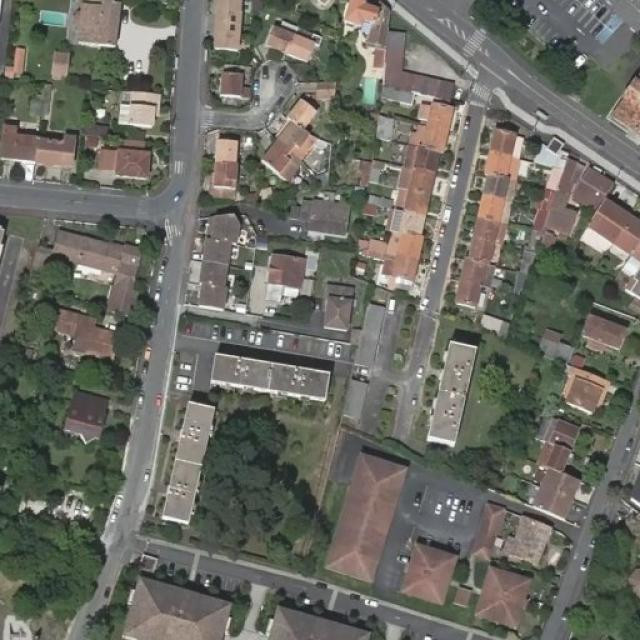immeuble: (34, 232, 155, 318), (327, 459, 409, 572), (114, 569, 223, 640), (155, 400, 211, 520), (208, 352, 338, 397), (428, 344, 484, 446), (536, 169, 609, 237), (267, 602, 365, 640), (50, 310, 120, 362), (397, 543, 456, 601), (483, 565, 541, 622), (593, 193, 640, 257), (263, 128, 316, 176), (563, 367, 612, 413), (504, 516, 550, 560), (373, 240, 424, 279), (262, 251, 304, 297), (386, 72, 458, 97), (454, 260, 492, 306), (472, 508, 505, 560), (210, 137, 242, 190), (542, 327, 582, 366), (210, 0, 239, 51), (586, 316, 624, 351), (471, 219, 498, 261), (489, 128, 528, 157), (393, 192, 432, 220), (286, 102, 321, 132), (206, 212, 242, 241), (385, 31, 409, 71), (477, 197, 509, 225), (491, 156, 523, 184), (196, 281, 226, 307), (204, 234, 234, 259), (393, 216, 421, 242), (200, 258, 230, 282), (421, 107, 451, 131), (485, 173, 511, 200), (404, 168, 430, 194), (422, 130, 448, 156), (417, 152, 442, 177)
maison: (67, 0, 125, 47), (538, 462, 590, 512), (345, 0, 395, 50), (62, 391, 109, 442), (109, 88, 166, 127), (98, 142, 156, 179), (296, 201, 352, 236), (322, 286, 353, 332), (1, 127, 37, 165), (36, 140, 78, 172), (274, 24, 313, 56), (223, 67, 257, 101), (50, 47, 70, 81), (6, 45, 24, 78), (316, 82, 337, 99)
piscine: (358, 67, 380, 113), (34, 7, 73, 27)
